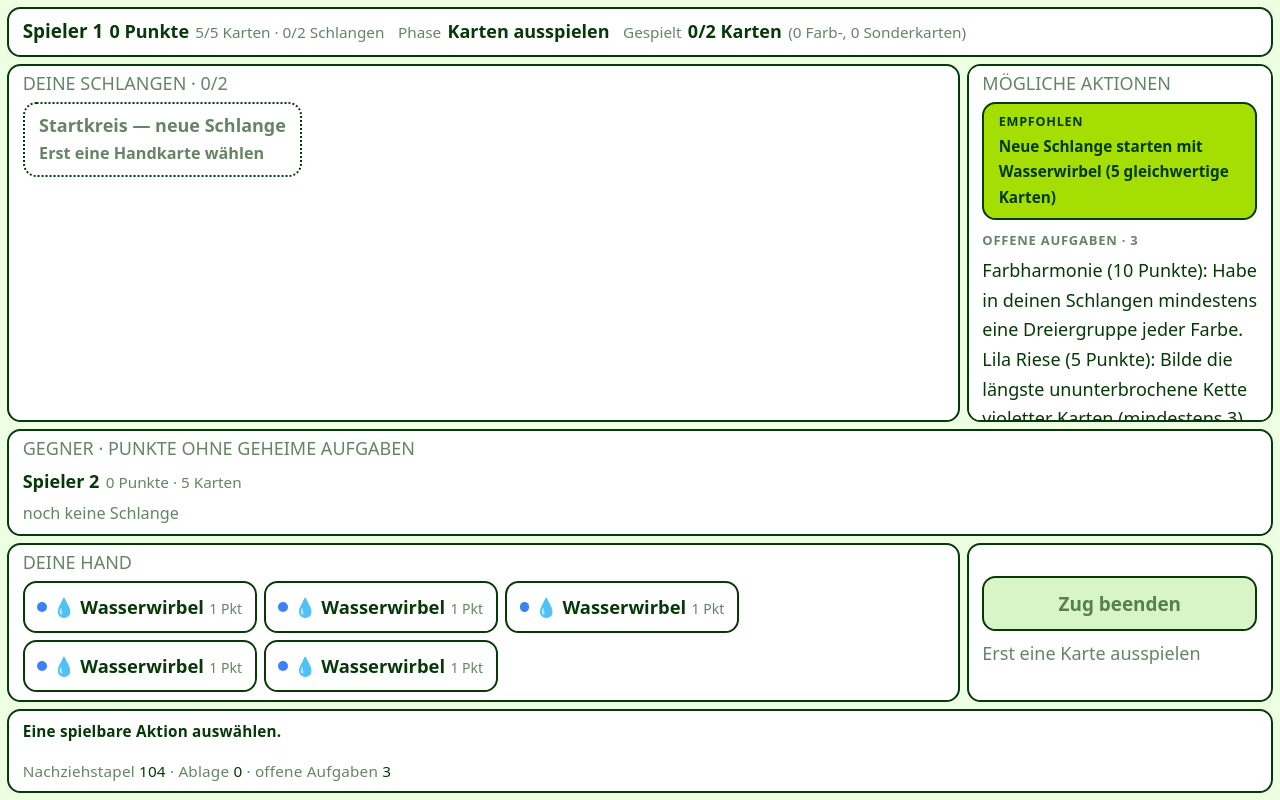
Test: R25 bis R27 — die Phasen laufen über die Engine weiter › gibt den Zug mit einem einzigen Klick an den nächsten Spieler weiter
The width and height of the screenshot is (1280, 800).
Click the button that starts with "Empfohlen" at (1120, 161), box [982, 102, 1257, 220]
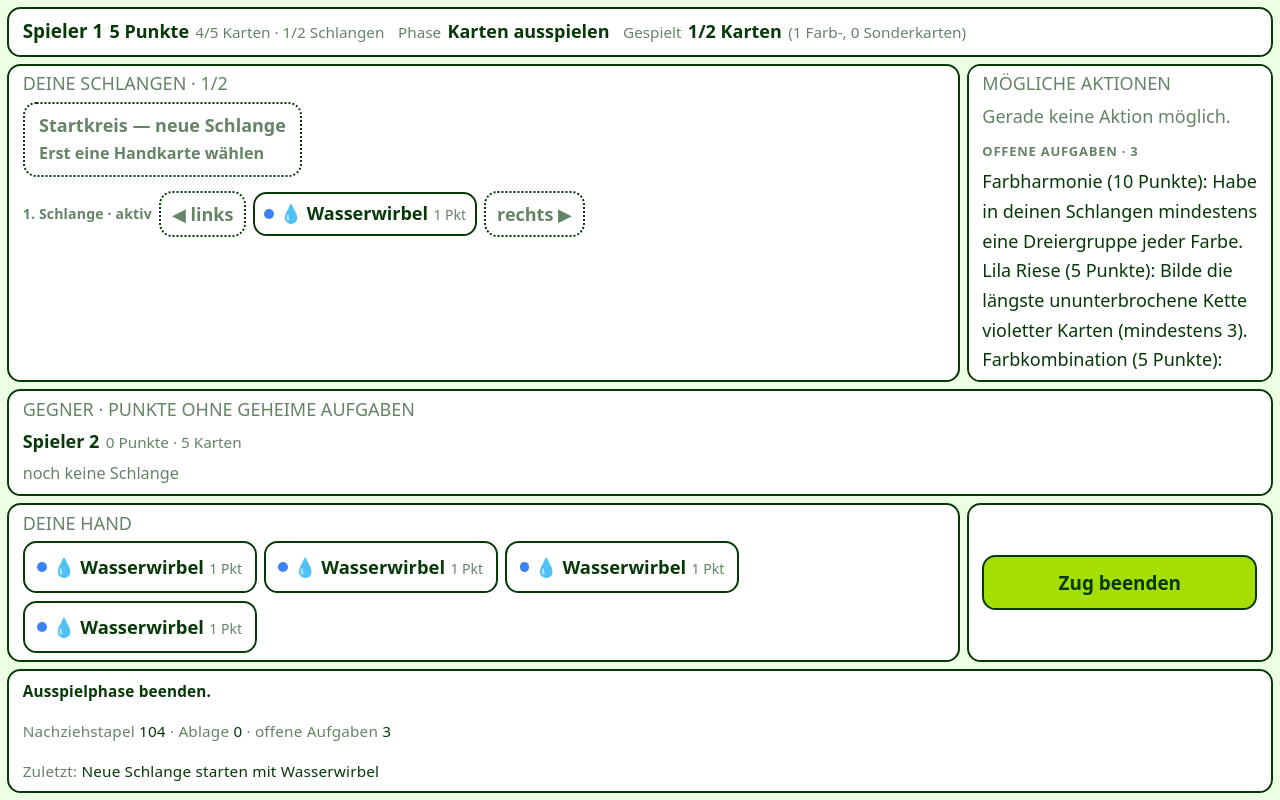
Click the button "Zug beenden" at (1120, 583), box [982, 555, 1257, 610]
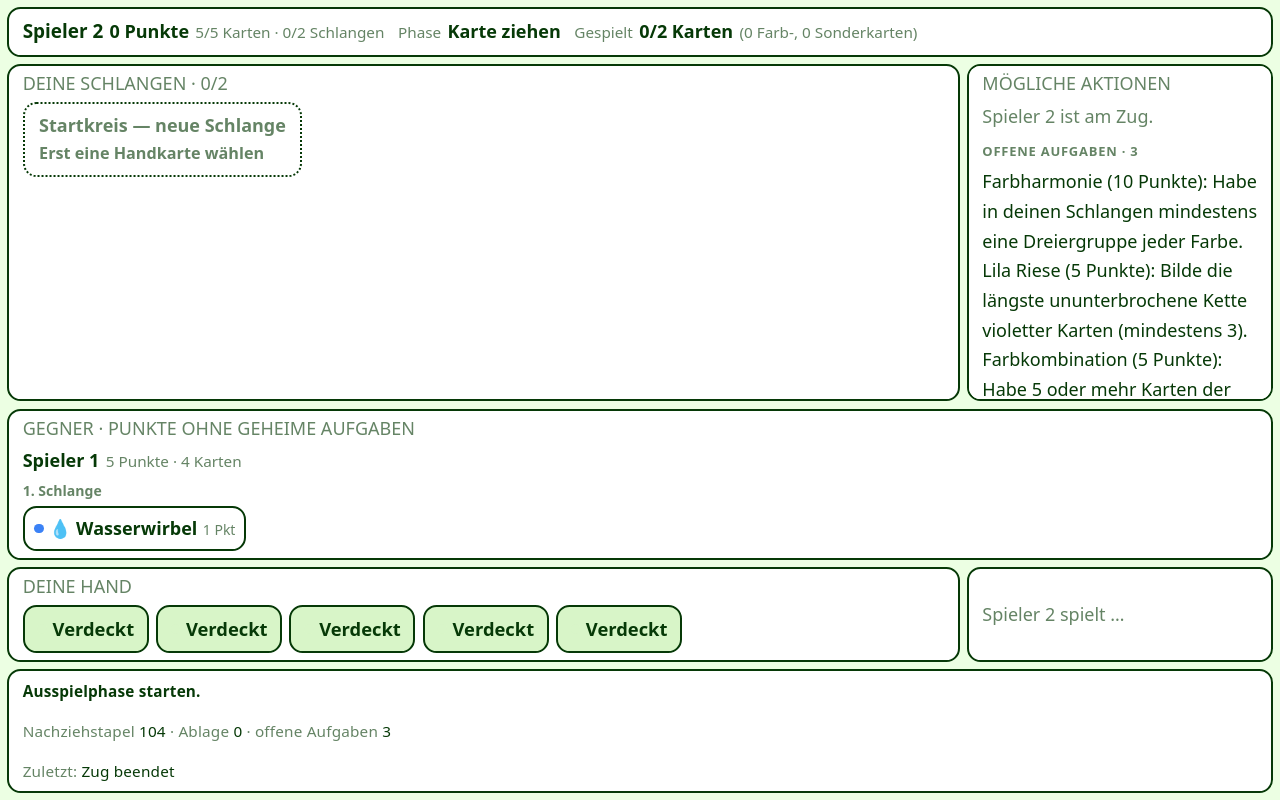
Expected: the button "◀ links" is gone
Expected: the element "Gegner" shows "Spieler 1", [23, 448, 99, 472]
